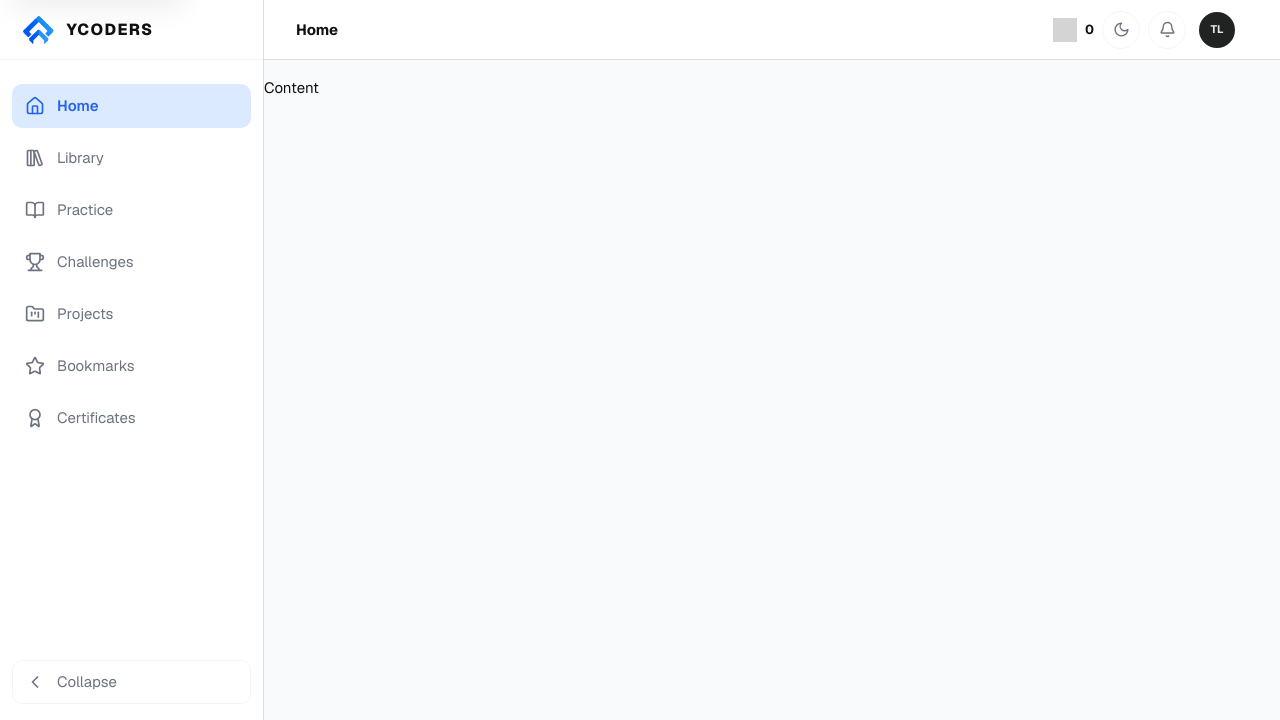
Test: AppShell account navigation menu › keeps only primary destinations in expanded and collapsed sidebar modes
This screenshot has width=1280, height=720.
Expected: the button "Home" is shown, [12, 84, 251, 128]
Expected: the button "Library" is shown, [12, 136, 251, 180]
Click the button with aria-label "Collapse sidebar" at {"x": 132, "y": 682}, box [12, 660, 251, 704]
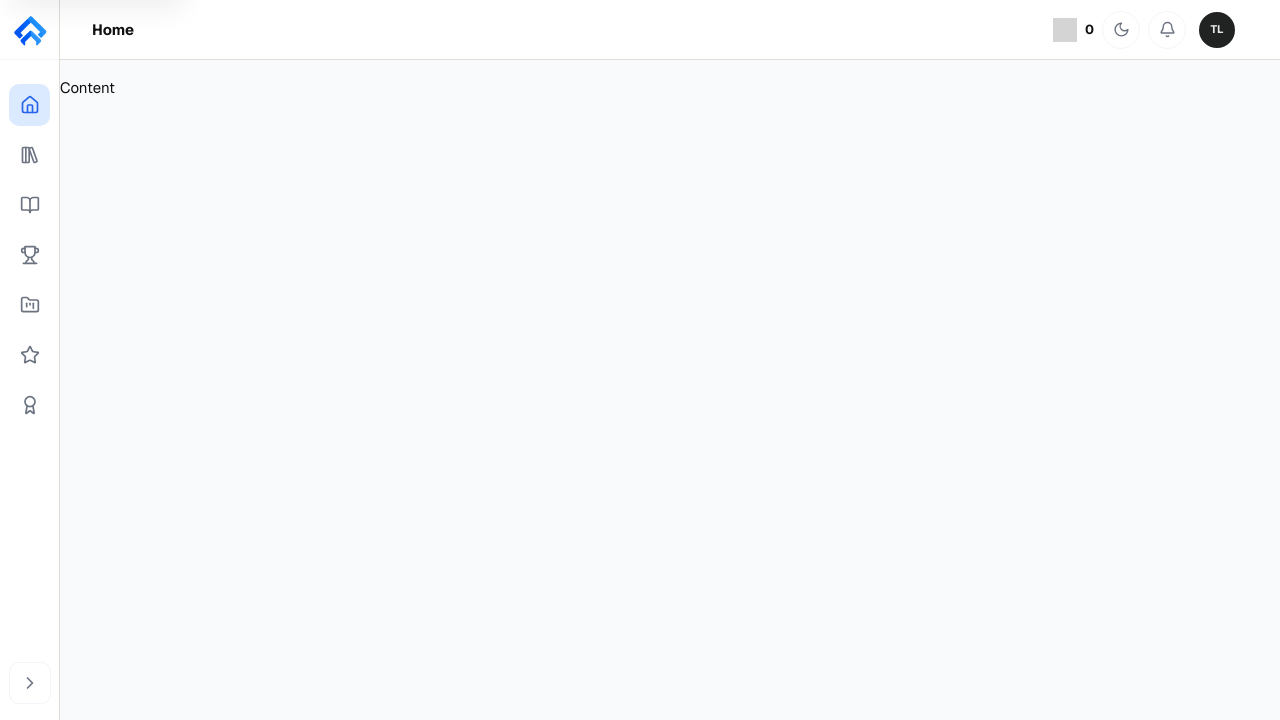
Expected: the button named "Expand sidebar" is shown, [8, 662, 50, 704]
